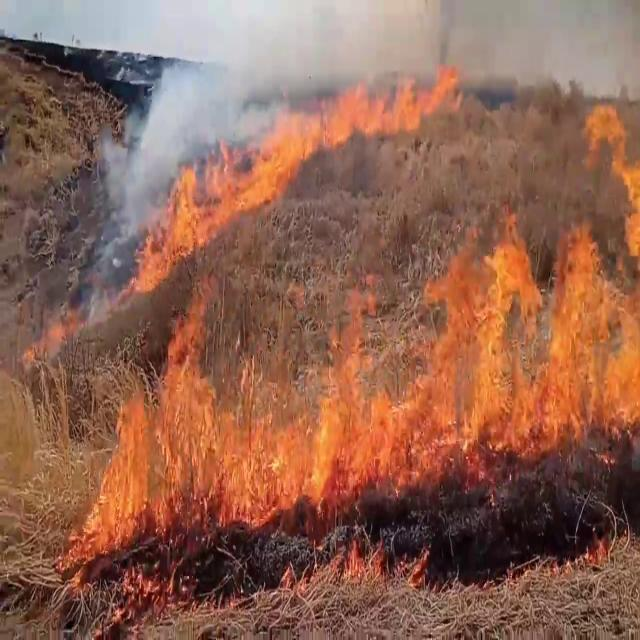Fire: (346, 188, 640, 497), (62, 302, 345, 572), (252, 58, 468, 200), (126, 144, 260, 288)
Smoke: (97, 0, 282, 204)
